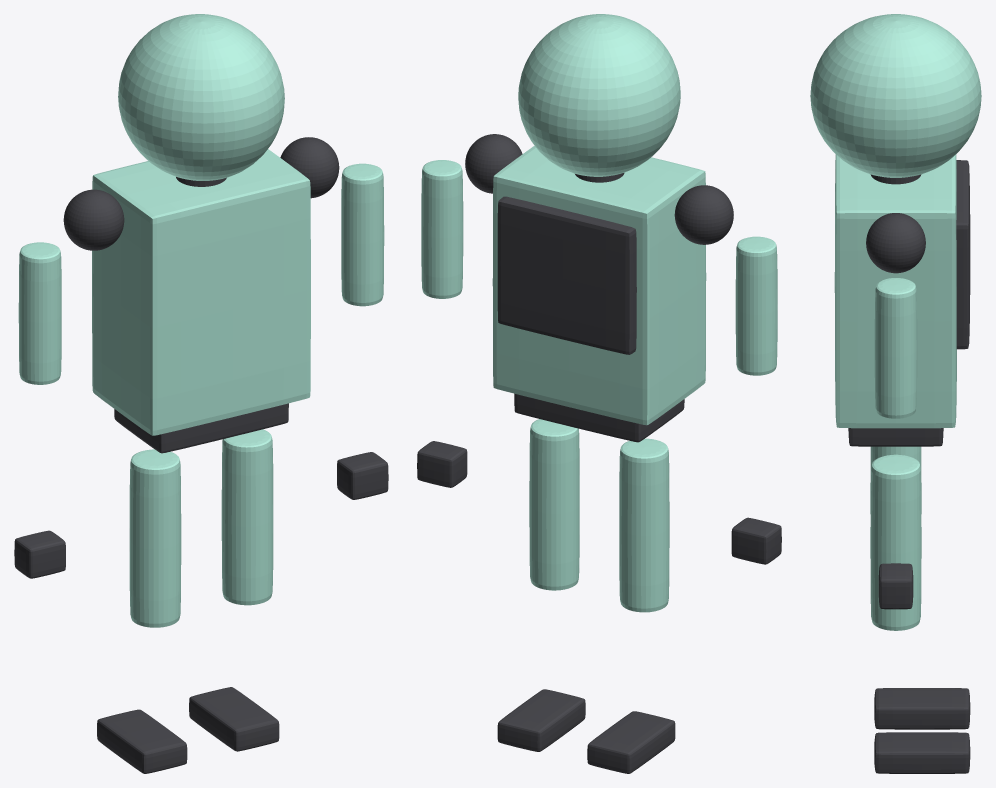
The model's file is Dummy_Mannequin_Mint_Hi.fbx.
3 views of the same model, side by side, from view 1: azimuth 30°, elevation 25°; view 2: azimuth 150°, elevation 25°; view 3: azimuth 270°, elevation 25° (orthographic). The views are drawn at different scales.
Visible parts, largest first — view 1: Torso, Head, UpperLeg_L, UpperLeg_R, UpperArm_R, UpperArm_L, Foot_R, Foot_L, Pelvis, Shoulder_L, Shoulder_R, Hand_R (+1 smaller); view 2: Torso, Head, ChestPlate, UpperLeg_L, UpperLeg_R, UpperArm_L, UpperArm_R, Foot_L, Foot_R, Pelvis, Shoulder_L, Shoulder_R (+2 smaller); view 3: Torso, Head, UpperLeg_R, UpperArm_R, Foot_R, Foot_L, Shoulder_R, ChestPlate, Pelvis, Hand_R, UpperLeg_L.
Boxes of the visible parts, left/top/right/bottom form: Torso: left=92, top=149, right=310, bottom=435; Head: left=118, top=14, right=284, bottom=180; UpperLeg_L: left=129, top=449, right=181, bottom=627; UpperLeg_R: left=221, top=429, right=273, bottom=605; UpperArm_R: left=341, top=163, right=384, bottom=306; UpperArm_L: left=18, top=242, right=61, bottom=384; Foot_R: left=189, top=687, right=279, bottom=751; Foot_L: left=97, top=709, right=187, bottom=773; Pelvis: left=114, top=403, right=288, bottom=453; Shoulder_L: left=63, top=189, right=124, bottom=250; Shoulder_R: left=280, top=137, right=339, bottom=198; Hand_R: left=337, top=452, right=388, bottom=499; Torso: left=492, top=146, right=706, bottom=425; Head: left=518, top=14, right=680, bottom=176; ChestPlate: left=497, top=196, right=636, bottom=354; UpperLeg_L: left=619, top=438, right=669, bottom=612; UpperLeg_R: left=529, top=419, right=579, bottom=590; UpperArm_L: left=735, top=236, right=777, bottom=375; UpperArm_R: left=421, top=160, right=463, bottom=298; Foot_L: left=587, top=711, right=675, bottom=773; Foot_R: left=497, top=689, right=585, bottom=751; Pelvis: left=514, top=393, right=684, bottom=442; Shoulder_L: left=674, top=185, right=733, bottom=244; Shoulder_R: left=465, top=134, right=522, bottom=193; Torso: left=834, top=154, right=956, bottom=428; Head: left=810, top=14, right=981, bottom=177; UpperLeg_R: left=870, top=454, right=921, bottom=630; UpperArm_R: left=874, top=278, right=917, bottom=418; Foot_R: left=874, top=732, right=970, bottom=773; Foot_L: left=874, top=688, right=970, bottom=729; Shoulder_R: left=866, top=213, right=925, bottom=273; ChestPlate: left=956, top=160, right=970, bottom=349; Pelvis: left=848, top=428, right=943, bottom=446; Hand_R: left=878, top=563, right=913, bottom=609; UpperLeg_L: left=870, top=446, right=921, bottom=513.
Size of the model in its own units: 0.9395 by 1.82 by 0.391.
